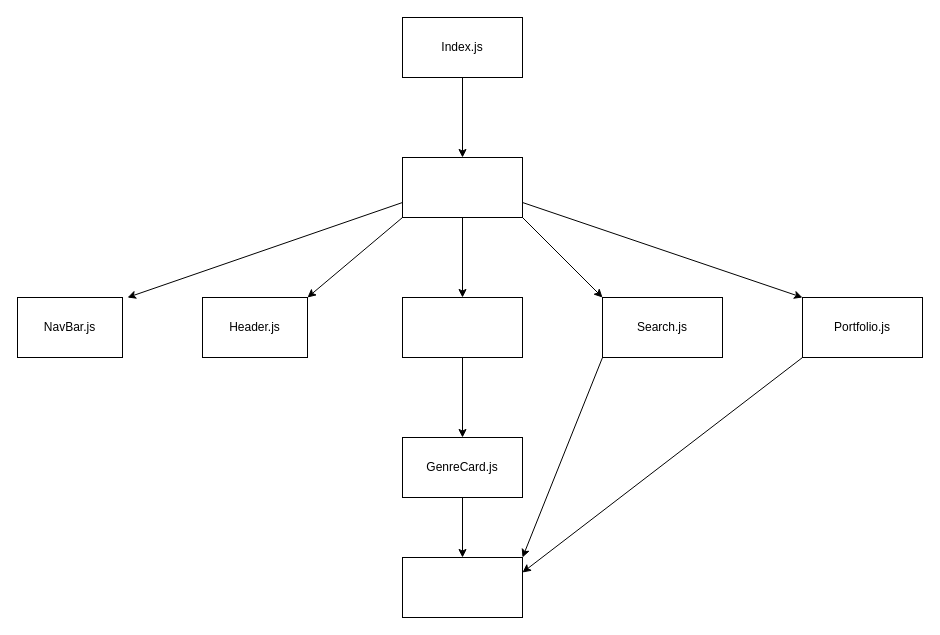
Image size: 940x635. Some labels were removed from this diagram. The box of each missing label's shape, as (x1, y1, x2, y2) in pixels:
App.js: (402, 156, 522, 218)
ArtistCard.js: (402, 556, 522, 618)
Home.js: (402, 296, 522, 358)
